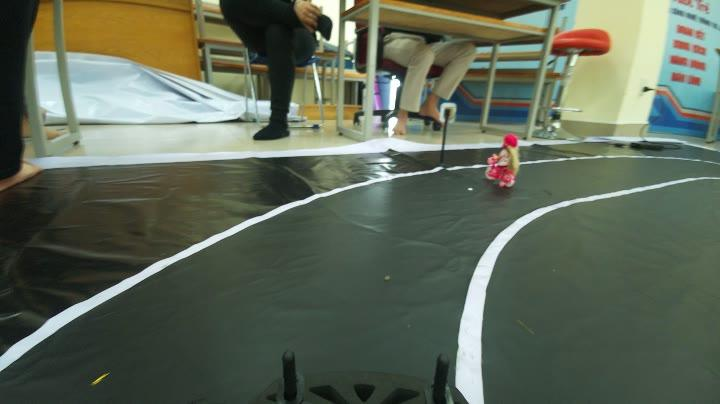pedestrian: (482, 130, 524, 201)
